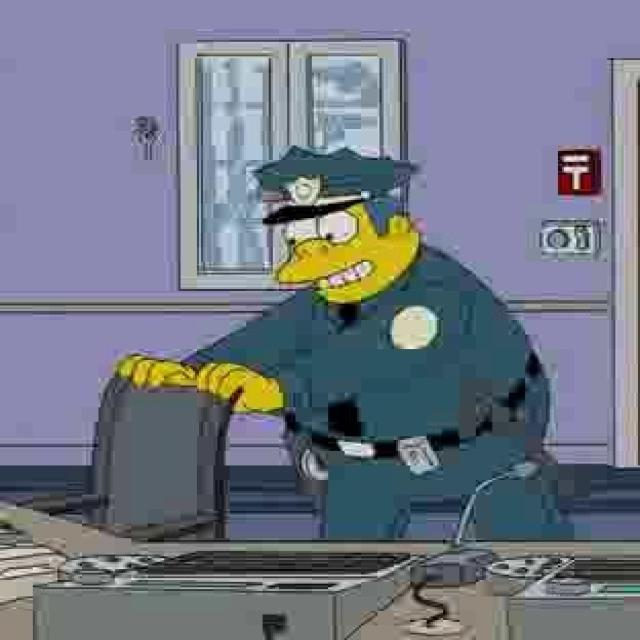Chief Wiggam: (252, 144, 429, 304)
